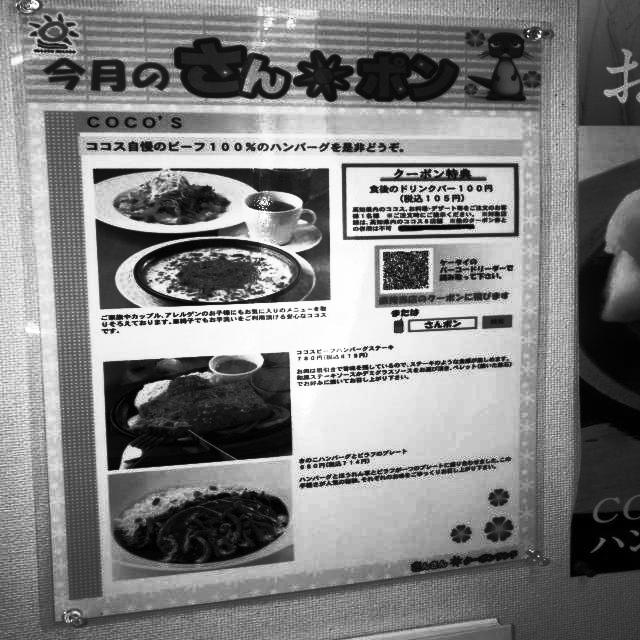qr_code: (383, 251, 428, 290)
